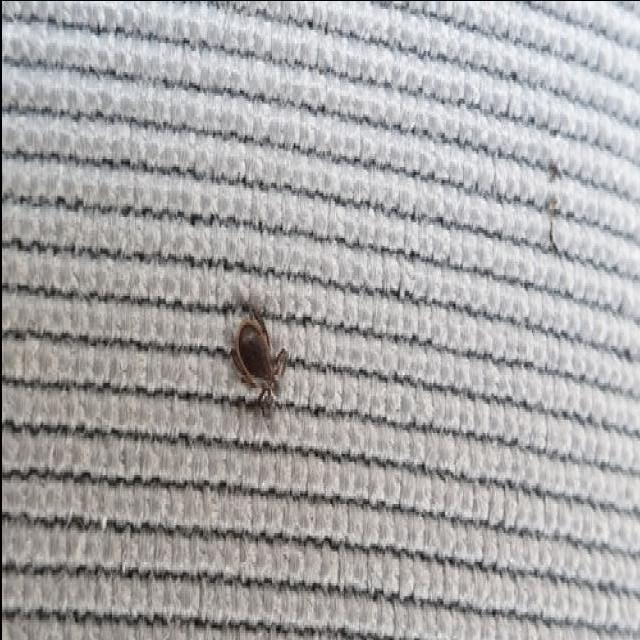Ixodes Ricinus-M: (225, 308, 285, 424)
